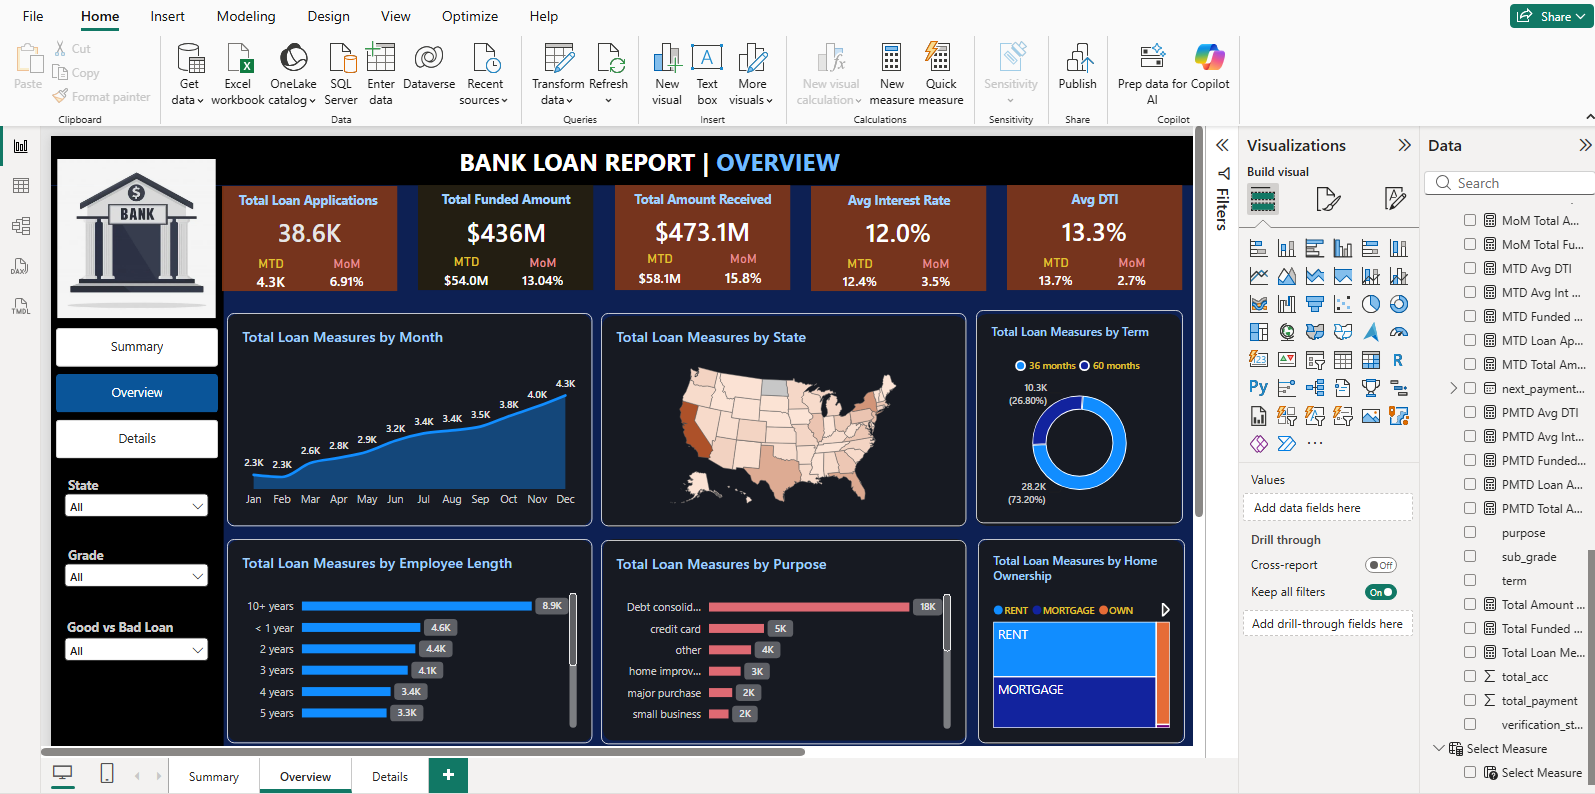

What the dashboard file says about the page in this screenshot:
{"tool":"powerbi","page":{"name":"Overview","canvas":[1920,1080],"ordinal":1},"visuals":[{"type":"shape","box":[407.8,54.4,195,117],"z":0,"group":"g1"},{"type":"shape","box":[0,55.6,192,655],"z":0},{"type":"shape","box":[0,0,1280,55],"z":1000},{"type":"cardVisual","fields":{"Data":["financial_loan.Total Funded Amount"]},"box":[409.8,81.6,192.2,50],"z":1000,"group":"g1"},{"type":"textbox","box":[448.9,10,432.2,45.6],"z":2000},{"type":"textbox","box":[420,60,171.1,27.8],"z":2000,"group":"g1"},{"type":"group","id":"g1","title":"Group 1","box":[407.8,54.4,195.6,116.7],"z":3000},{"type":"shape","box":[626.1,54.4,195,117],"z":3000,"group":"g3"},{"type":"shape","box":[1062.2,54.4,195,117],"z":3000,"group":"g5"},{"type":"shape","box":[190,55.6,195,117],"z":3000,"group":"g2"},{"type":"shape","box":[843.9,55.6,195,117],"z":3000,"group":"g4"},{"type":"cardVisual","title":"MTD","fields":{"Data":["financial_loan.MTD Funded Amount"]},"box":[409.8,131.6,103.3,40],"z":3000,"group":"g1"},{"type":"group","id":"g2","title":"Group 2","box":[190,55.6,195,117],"z":4000},{"type":"cardVisual","fields":{"Data":["financial_loan.Total Amount Receiced"]},"box":[627.2,80,192.2,50],"z":4000,"group":"g3"},{"type":"cardVisual","fields":{"Data":["financial_loan.Avg DTI"]},"box":[1063.3,80,192.2,50],"z":4000,"group":"g5"},{"type":"cardVisual","fields":{"Data":["financial_loan.Total Loan Measures"]},"box":[191.1,81.2,192.2,50],"z":4000,"group":"g2"},{"type":"cardVisual","fields":{"Data":["financial_loan.Avg Interest Rate"]},"box":[845,81.2,192.2,50],"z":4000,"group":"g4"},{"type":"cardVisual","title":"MoM","fields":{"Data":["financial_loan.MoM Total Funded Amount"]},"box":[504.5,132.2,84.4,38.9],"z":4000,"group":"g1"},{"type":"group","id":"g3","title":"Group 2","box":[626.1,54.4,195,117],"z":5000},{"type":"textbox","box":[638.3,60,171.1,27.8],"z":5000,"group":"g3"},{"type":"textbox","box":[1074.4,60,171.1,27.8],"z":5000,"group":"g5"},{"type":"textbox","box":[202.2,61.2,171.1,27.8],"z":5000,"group":"g2"},{"type":"textbox","box":[856.1,61.2,171.1,27.8],"z":5000,"group":"g4"},{"type":"shape","box":[195.3,198.1,405,235],"z":5000,"group":"g6"},{"type":"shape","box":[612.2,200,405,235],"z":5000,"group":"g10"},{"type":"shape","box":[196.7,448.9,404.4,224.4],"z":5000,"group":"g11"},{"type":"cardVisual","title":"MTD","fields":{"Data":["financial_loan.MTD Total Amount Received"]},"box":[629.9,127.2,93.3,43.3],"z":6000,"group":"g3"},{"type":"cardVisual","title":"MTD","fields":{"Data":["financial_loan.MTD Avg DTI"]},"box":[1074.4,132.2,84.4,38.9],"z":6000,"group":"g5"},{"type":"cardVisual","title":"MTD","fields":{"Data":["financial_loan.MTD Loan Applications"]},"box":[202.2,133.4,84.4,38.9],"z":6000,"group":"g2"},{"type":"cardVisual","title":"MTD","fields":{"Data":["financial_loan.MTD Avg Int Rate"]},"box":[856.1,133.4,84.4,38.9],"z":6000,"group":"g4"},{"type":"shape","box":[1027.8,197.8,227.8,235.6],"z":6000},{"type":"cardVisual","title":"MoM","fields":{"Data":["financial_loan.MoM Total Amount Received"]},"box":[722.9,127.2,92.2,43.3],"z":7000,"group":"g3"},{"type":"cardVisual","title":"MoM","fields":{"Data":["financial_loan.MoM Avg DTI"]},"box":[1158.9,132.2,84.4,38.9],"z":7000,"group":"g5"},{"type":"cardVisual","title":"MoM","fields":{"Data":["financial_loan.MoM Loan Application"]},"box":[286.7,133.4,84.4,38.9],"z":7000,"group":"g2"},{"type":"cardVisual","title":"MoM","fields":{"Data":["financial_loan.MoM Avg Interest Rate"]},"box":[940.6,133.4,84.4,38.9],"z":7000,"group":"g4"},{"type":"shape","box":[613.3,447.8,404.4,224.4],"z":7000},{"type":"group","id":"g4","title":"Group 2","box":[843.9,55.6,195.6,116.7],"z":8000},{"type":"group","id":"g5","title":"Group 2","box":[1062.2,54.4,195.6,116.7],"z":9000},{"type":"group","id":"g6","title":"Group 4","box":[195.3,198.1,405,235],"z":10000},{"type":"textbox","box":[17.8,312.2,138.9,27.8],"z":11000},{"type":"group","id":"g7","title":"Group 5","box":[10,377.8,170,56.7],"z":12000},{"type":"textbox","box":[18.9,377.8,51.1,27.8],"z":12000,"group":"g7"},{"type":"textbox","box":[18.9,455.6,51.1,27.8],"z":12000,"group":"g8"},{"type":"textbox","box":[17.8,535,141.1,31.1],"z":12000,"group":"g9"},{"type":"group","id":"g8","title":"Group 5","box":[10,455.6,170,56.7],"z":13000},{"type":"slicer","fields":{"Values":["financial_loan.address_state"]},"box":[10,392.2,170,42.2],"z":14000,"group":"g7"},{"type":"slicer","fields":{"Values":["financial_loan.grade"]},"box":[10,470,170,42.2],"z":14000,"group":"g8"},{"type":"group","id":"g9","title":"Group 5","box":[10,535,170,59.4],"z":14000},{"type":"slicer","fields":{"Values":["financial_loan.Good vd Bad Loans"]},"box":[10,552.2,170,42.2],"z":14000,"group":"g9"},{"type":"areaChart","fields":{"Category":["Date Table.Month"],"Y":["financial_loan.Total Loan Measures"]},"box":[195.6,196.7,405.6,236.7],"z":15000},{"type":"slicer","fields":{"Values":["Parameter.Parameter"]},"box":[10,326.7,170,37.8],"z":16000},{"type":"group","id":"g10","title":"Group 4","box":[612.2,200,405.6,235.6],"z":17000},{"type":"shapeMap","fields":{"Category":["financial_loan.address_state"],"Value":["financial_loan.Total Loan Measures"]},"box":[611.1,196.7,405.6,236.7],"z":18000},{"type":"donutChart","fields":{"Category":["financial_loan.term"],"Y":["financial_loan.Total Loan Measures"]},"box":[1027.8,193.3,230,236.7],"z":19000},{"type":"group","id":"g11","title":"Group 4","box":[196.7,448.9,404.4,224.4],"z":20000},{"type":"barChart","fields":{"Category":["financial_loan.emp_length"],"Y":["financial_loan.Total Loan Measures"]},"box":[195.6,447.8,405.6,226.7],"z":21000},{"type":"shape","box":[1030,448.9,227.8,226.7],"z":21500},{"type":"barChart","fields":{"Category":["financial_loan.purpose"],"Y":["financial_loan.Total Loan Measures"]},"box":[611.1,448.9,405.6,226.7],"z":22000},{"type":"treemap","fields":{"Group":["financial_loan.home_ownership"],"Values":["financial_loan.Total Loan Measures"]},"box":[1030,447.8,230,226.7],"z":24000},{"type":"image","box":[0,25.6,190,176.7],"z":24001},{"type":"pageNavigator","box":[5.6,213.3,180,146.7],"z":24002}]}

Visuals, with their boxes on the page's 1920x1080 design canvas (x1, y1, x2, y2). These are canvas units, not pixel positions in the 1595x794 screenshot, which may show the page scaled, cropped or inside an application window:
shape: x1=408, y1=54, x2=603, y2=171
shape: x1=0, y1=56, x2=192, y2=711
shape: x1=0, y1=0, x2=1280, y2=55
cardVisual - financial_loan.Total Funded Amount: x1=410, y1=82, x2=602, y2=132
textbox: x1=449, y1=10, x2=881, y2=56
textbox: x1=420, y1=60, x2=591, y2=88
"Group 1" group: x1=408, y1=54, x2=603, y2=171
shape: x1=626, y1=54, x2=821, y2=171
shape: x1=1062, y1=54, x2=1257, y2=171
shape: x1=190, y1=56, x2=385, y2=173
shape: x1=844, y1=56, x2=1039, y2=173
"MTD" cardVisual: x1=410, y1=132, x2=513, y2=172
"Group 2" group: x1=190, y1=56, x2=385, y2=173
cardVisual - financial_loan.Total Amount Receiced: x1=627, y1=80, x2=819, y2=130
cardVisual - financial_loan.Avg DTI: x1=1063, y1=80, x2=1256, y2=130
cardVisual - financial_loan.Total Loan Measures: x1=191, y1=81, x2=383, y2=131
cardVisual - financial_loan.Avg Interest Rate: x1=845, y1=81, x2=1037, y2=131
"MoM" cardVisual: x1=504, y1=132, x2=589, y2=171
"Group 2" group: x1=626, y1=54, x2=821, y2=171
textbox: x1=638, y1=60, x2=809, y2=88
textbox: x1=1074, y1=60, x2=1246, y2=88
textbox: x1=202, y1=61, x2=373, y2=89
textbox: x1=856, y1=61, x2=1027, y2=89
shape: x1=195, y1=198, x2=600, y2=433
shape: x1=612, y1=200, x2=1017, y2=435
shape: x1=197, y1=449, x2=601, y2=673
"MTD" cardVisual: x1=630, y1=127, x2=723, y2=170
"MTD" cardVisual: x1=1074, y1=132, x2=1159, y2=171
"MTD" cardVisual: x1=202, y1=133, x2=287, y2=172
"MTD" cardVisual: x1=856, y1=133, x2=940, y2=172
shape: x1=1028, y1=198, x2=1256, y2=433
"MoM" cardVisual: x1=723, y1=127, x2=815, y2=170
"MoM" cardVisual: x1=1159, y1=132, x2=1243, y2=171
"MoM" cardVisual: x1=287, y1=133, x2=371, y2=172
"MoM" cardVisual: x1=941, y1=133, x2=1025, y2=172
shape: x1=613, y1=448, x2=1018, y2=672
"Group 2" group: x1=844, y1=56, x2=1040, y2=172
"Group 2" group: x1=1062, y1=54, x2=1258, y2=171
"Group 4" group: x1=195, y1=198, x2=600, y2=433
textbox: x1=18, y1=312, x2=157, y2=340
"Group 5" group: x1=10, y1=378, x2=180, y2=434
textbox: x1=19, y1=378, x2=70, y2=406
textbox: x1=19, y1=456, x2=70, y2=483
textbox: x1=18, y1=535, x2=159, y2=566
"Group 5" group: x1=10, y1=456, x2=180, y2=512
slicer - financial_loan.address_state: x1=10, y1=392, x2=180, y2=434
slicer - financial_loan.grade: x1=10, y1=470, x2=180, y2=512
"Group 5" group: x1=10, y1=535, x2=180, y2=594
slicer - financial_loan.Good vd Bad Loans: x1=10, y1=552, x2=180, y2=594
areaChart - Date Table.Month x financial_loan.Total Loan Measures: x1=196, y1=197, x2=601, y2=433
slicer - Parameter.Parameter: x1=10, y1=327, x2=180, y2=364
"Group 4" group: x1=612, y1=200, x2=1018, y2=436
shapeMap - financial_loan.address_state x financial_loan.Total Loan Measures: x1=611, y1=197, x2=1017, y2=433
donutChart - financial_loan.term x financial_loan.Total Loan Measures: x1=1028, y1=193, x2=1258, y2=430
"Group 4" group: x1=197, y1=449, x2=601, y2=673
barChart - financial_loan.emp_length x financial_loan.Total Loan Measures: x1=196, y1=448, x2=601, y2=674
shape: x1=1030, y1=449, x2=1258, y2=676
barChart - financial_loan.purpose x financial_loan.Total Loan Measures: x1=611, y1=449, x2=1017, y2=676
treemap - financial_loan.home_ownership x financial_loan.Total Loan Measures: x1=1030, y1=448, x2=1260, y2=674
image: x1=0, y1=26, x2=190, y2=202
pageNavigator: x1=6, y1=213, x2=186, y2=360
